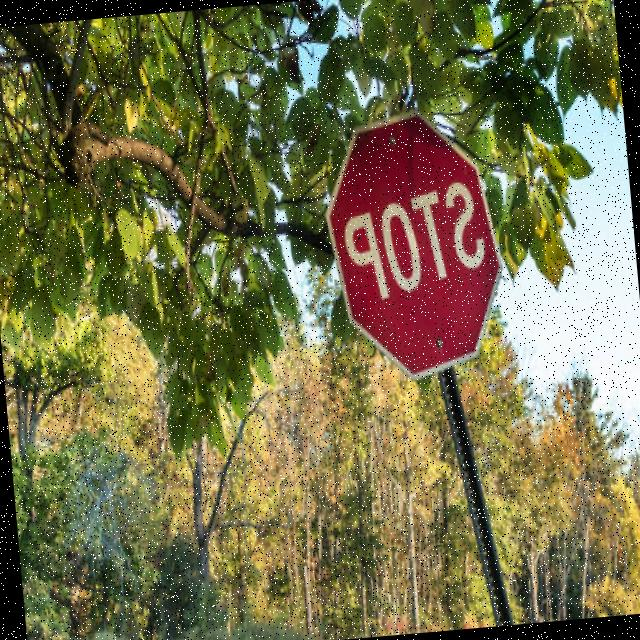stop: (314, 94, 512, 395)
